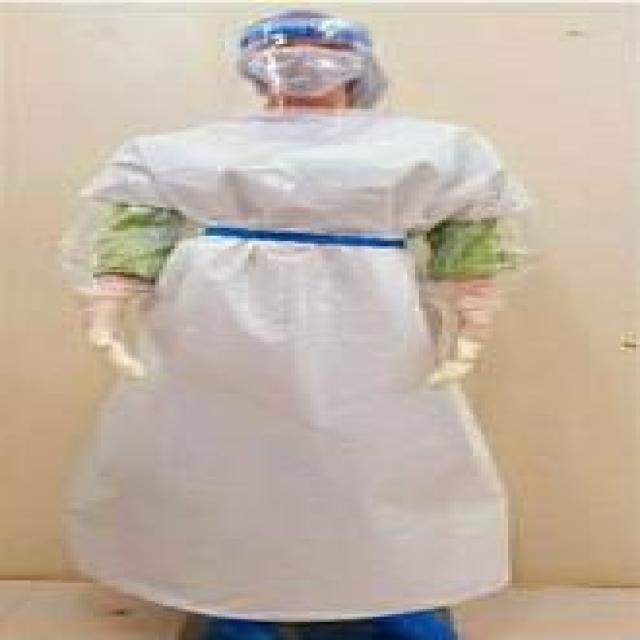Coverall: (55, 0, 536, 622)
Mask: (244, 44, 361, 93)
